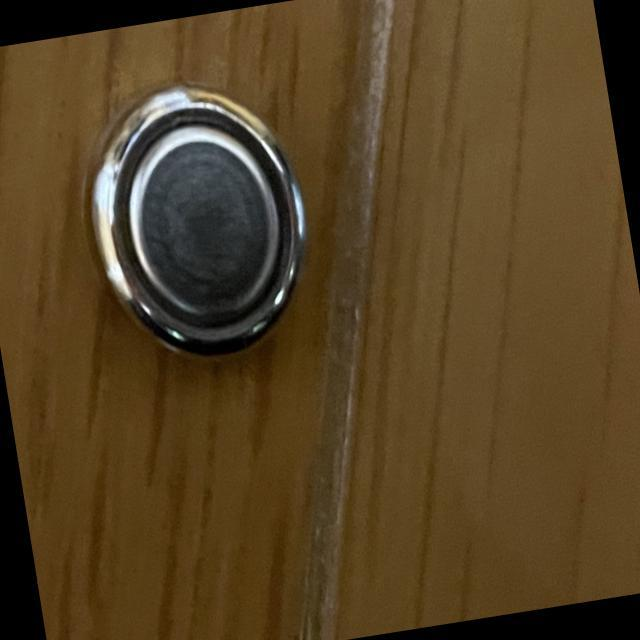COIN: (72, 70, 327, 368)
